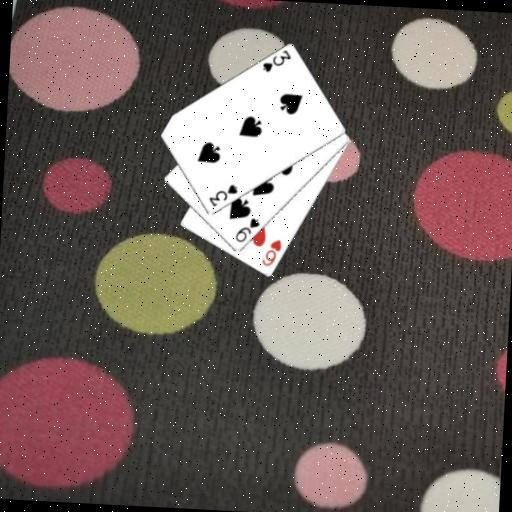3S: (205, 180, 239, 209), (259, 47, 292, 76)
6H: (258, 236, 283, 269)
9S: (232, 215, 262, 245)
